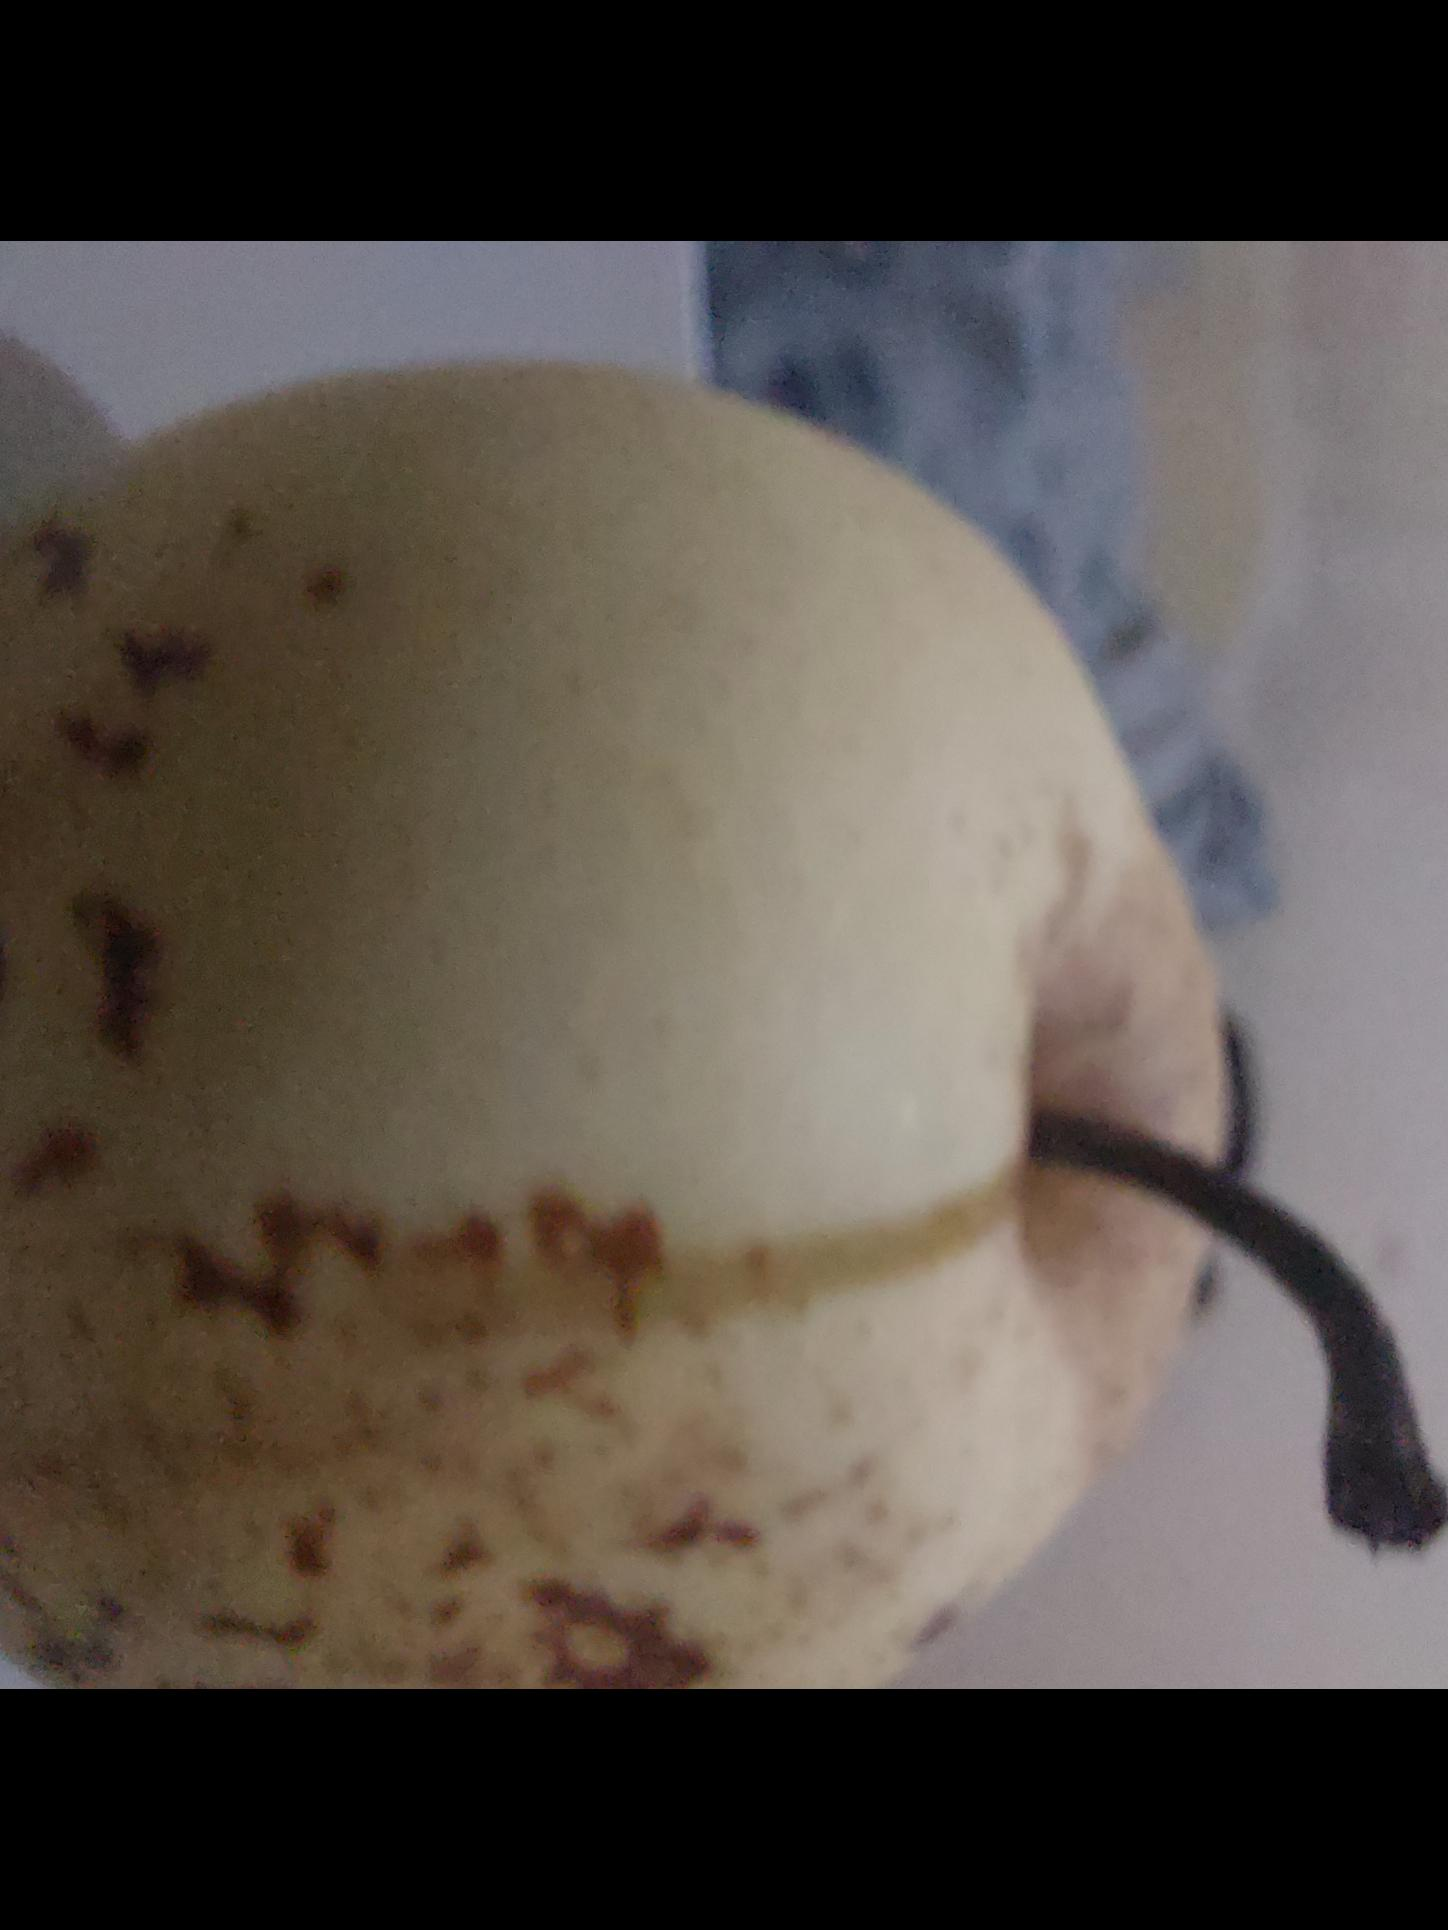Bad Pear: (0, 353, 1446, 1690)
